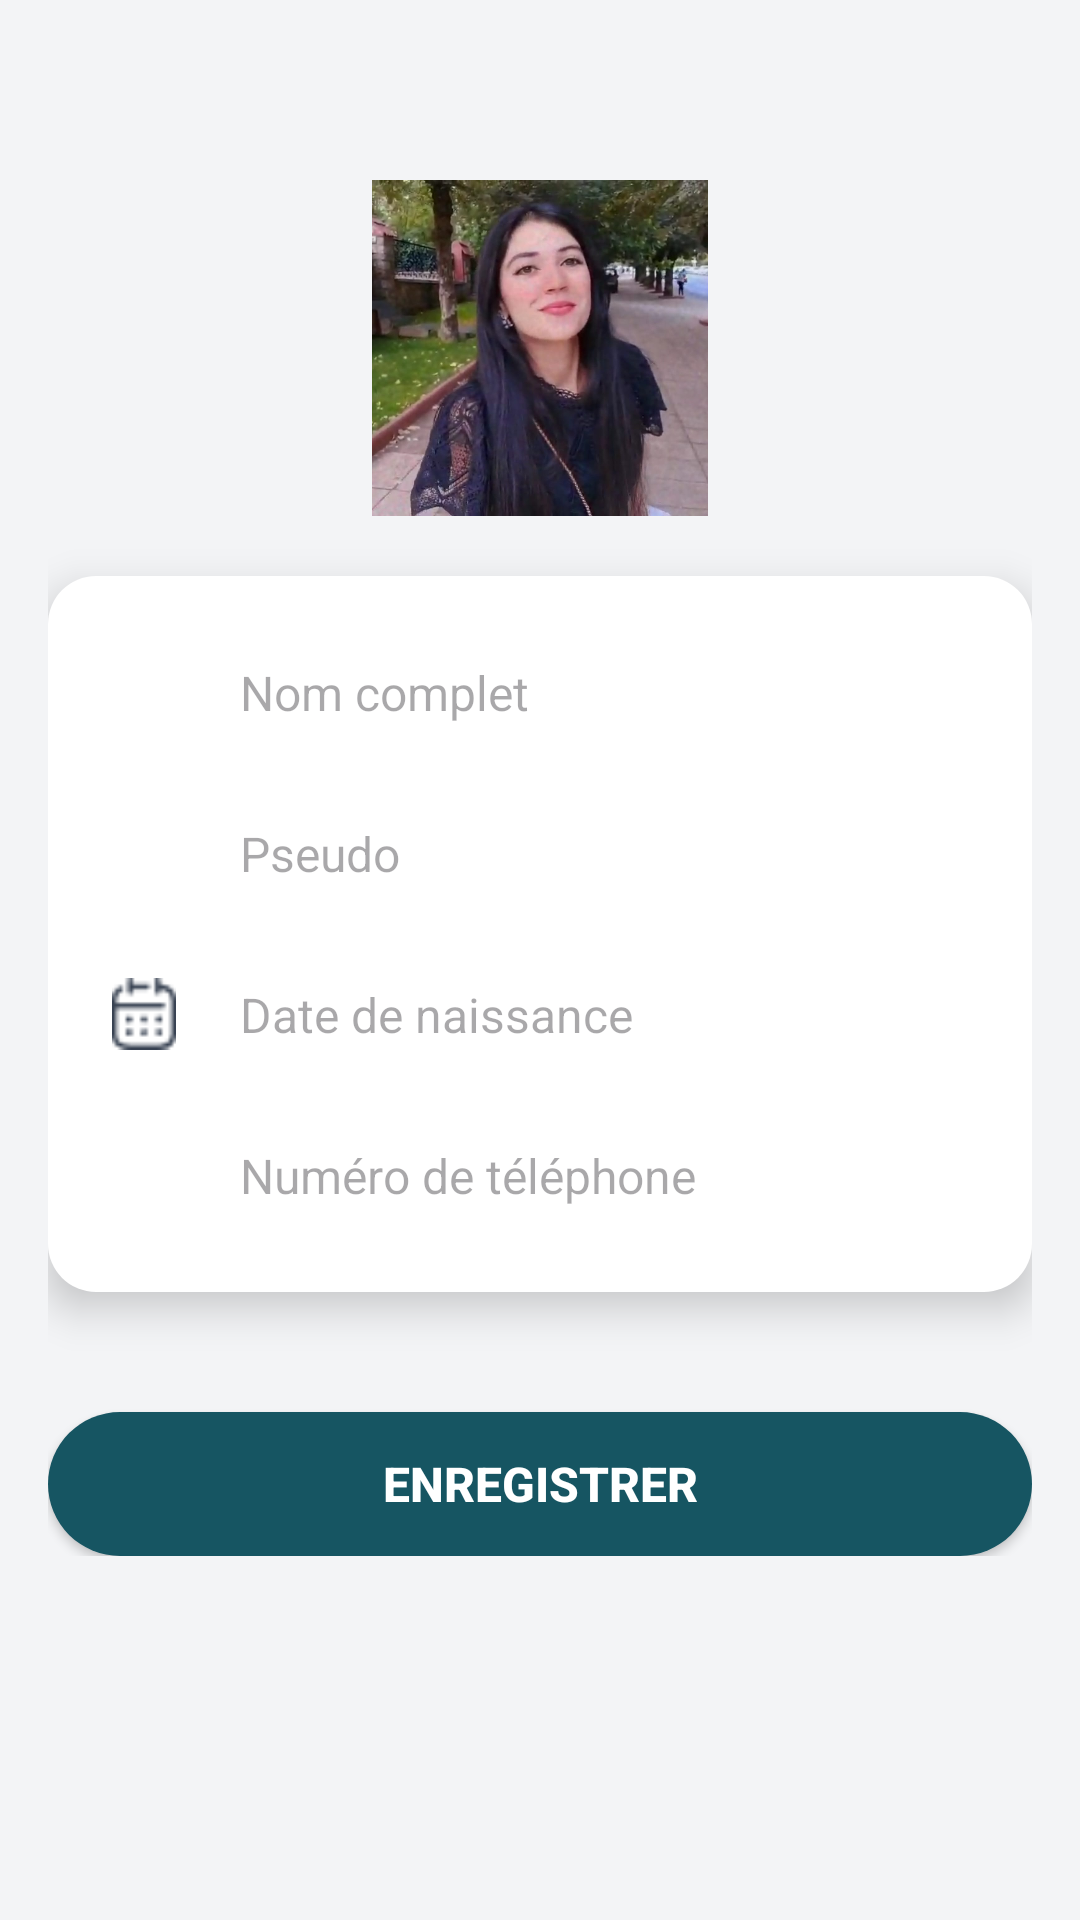

Named icons in this screenshot (1080×1920) and their bounding boxes, (x1, y1, x2, y2):
calendar: (112, 978, 176, 1050)
Image de profil: (372, 180, 708, 516)
